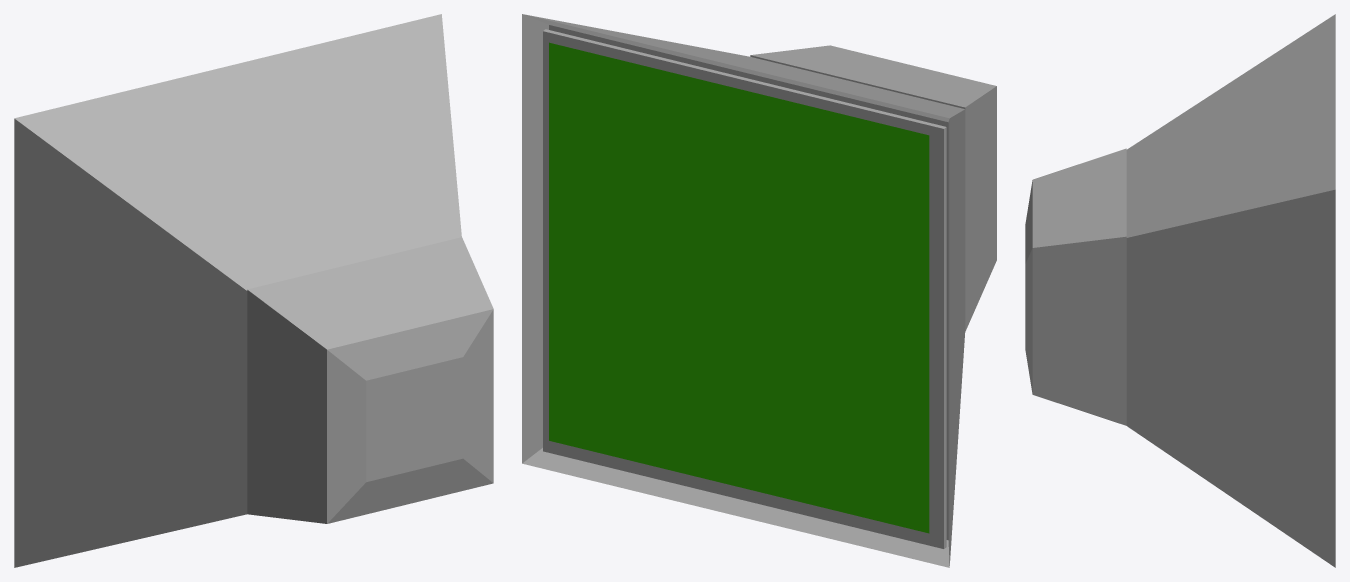
The model's file is computer.fbx.
3 views of the same model, side by side, from view 1: azimuth 30°, elevation 25°; view 2: azimuth 150°, elevation 25°; view 3: azimuth 270°, elevation 25° (orthographic). The views are drawn at different scales.
Parts seen in each view (by area): view 1: Cube; view 2: Cube.001, Cube; view 3: Cube.
Part boxes in pixels (<box>): Cube: <box>14,14,493,567</box>; Cube.001: <box>549,42,929,533</box>; Cube: <box>522,14,996,567</box>; Cube: <box>1025,14,1335,567</box>.
Size of the model in its own units: 123 by 124 by 92.02.
